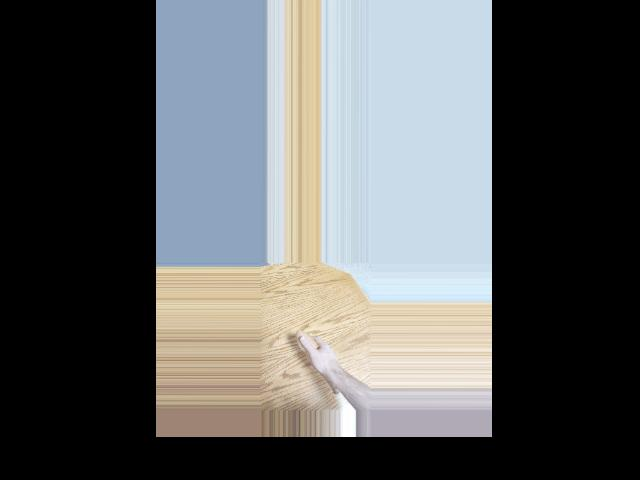sweet_potato: (294, 328, 338, 395)
